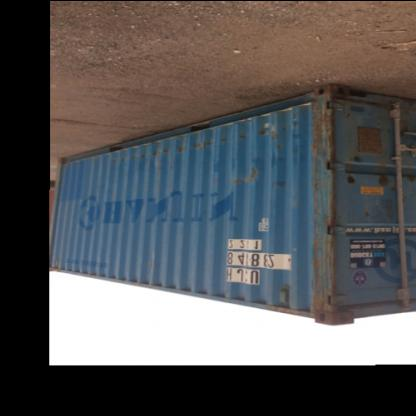Damage: (126, 128, 264, 162), (310, 220, 338, 326), (305, 167, 343, 226), (306, 100, 336, 171), (358, 190, 400, 224), (229, 166, 259, 187), (374, 167, 400, 190), (342, 167, 360, 190), (400, 166, 415, 190), (347, 146, 363, 167), (270, 176, 290, 192)
